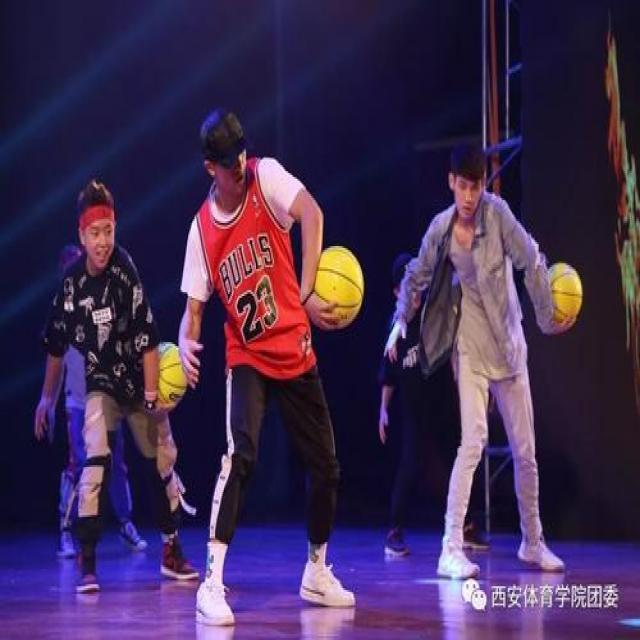rim: (312, 242, 366, 329), (154, 344, 190, 407), (549, 263, 583, 323)
